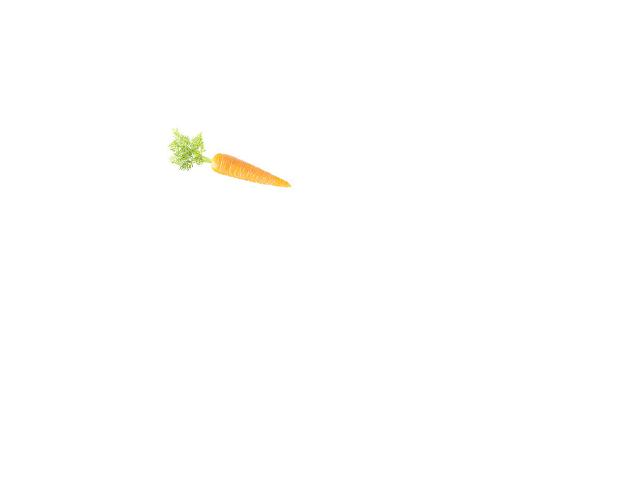carrot: (208, 151, 295, 190)
